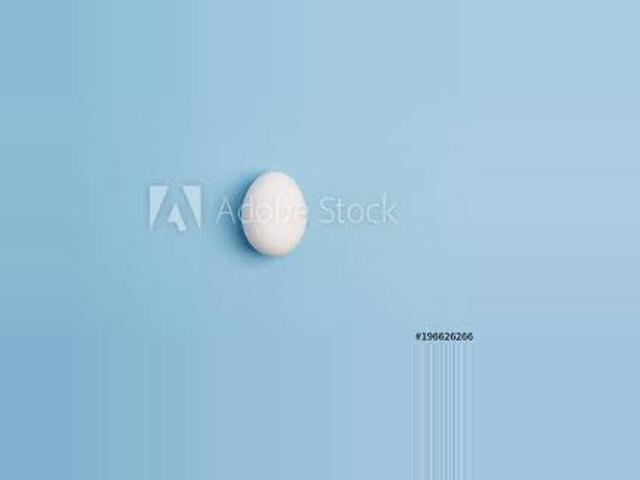egg: (241, 173, 306, 255)
